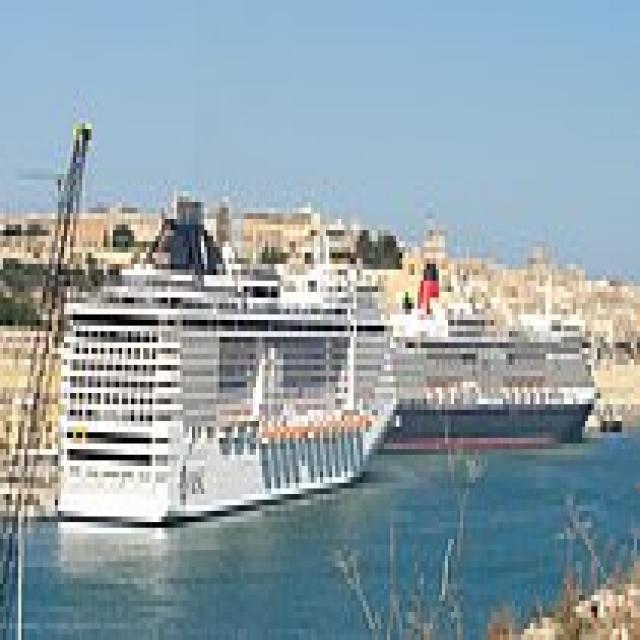Ship: (44, 203, 413, 546)
